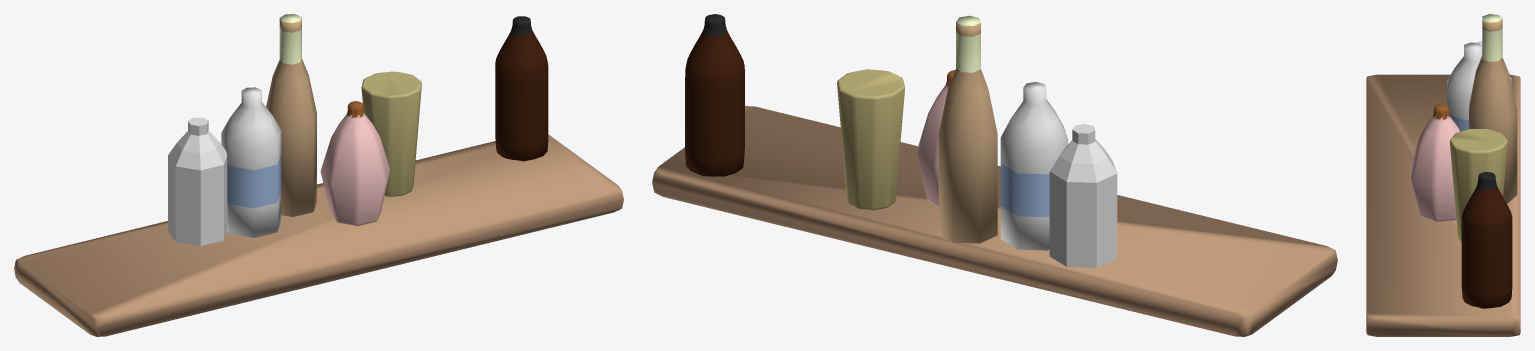
The model's file is Wall_shelf_set.fbx.
3 renders of one model, left to right at view 1: azimuth 30°, elevation 25°; view 2: azimuth 150°, elevation 25°; view 3: azimuth 270°, elevation 25°, orthographic. The views are drawn at different scales.
Visible parts, largest first — view 1: Wall_shelf.001, Bottle_2.009, Bottle_2.005, Bottle_2.008, Bottle_3.001, Bottle_4.001, Can_2.001; view 2: Wall_shelf.001, Bottle_2.005, Bottle_2.008, Bottle_3.001, Bottle_2.009, Can_2.001, Bottle_4.001; view 3: Wall_shelf.001, Bottle_2.008, Bottle_2.005, Bottle_4.001, Can_2.001, Bottle_2.009.
Boxes of the visible parts, x1,y1,x2,y2 form: Wall_shelf.001: [14, 134, 623, 336]; Bottle_2.009: [221, 87, 281, 237]; Bottle_2.005: [266, 14, 316, 216]; Bottle_2.008: [495, 16, 548, 161]; Bottle_3.001: [168, 117, 227, 246]; Bottle_4.001: [320, 101, 389, 226]; Can_2.001: [361, 71, 421, 196]; Wall_shelf.001: [652, 106, 1337, 336]; Bottle_2.005: [938, 15, 997, 243]; Bottle_2.008: [685, 14, 744, 176]; Bottle_3.001: [1049, 124, 1117, 267]; Bottle_2.009: [1000, 82, 1068, 250]; Can_2.001: [837, 69, 904, 210]; Bottle_4.001: [916, 70, 955, 206]; Wall_shelf.001: [1366, 74, 1520, 336]; Bottle_2.008: [1461, 172, 1512, 308]; Bottle_2.005: [1469, 14, 1517, 203]; Bottle_4.001: [1410, 104, 1460, 221]; Can_2.001: [1449, 129, 1507, 241]; Bottle_2.009: [1447, 42, 1482, 131].
Size of the model in its own units: 115 by 43.34 by 30.96.
